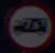Heavy Vehicles: (7, 3, 47, 42)
